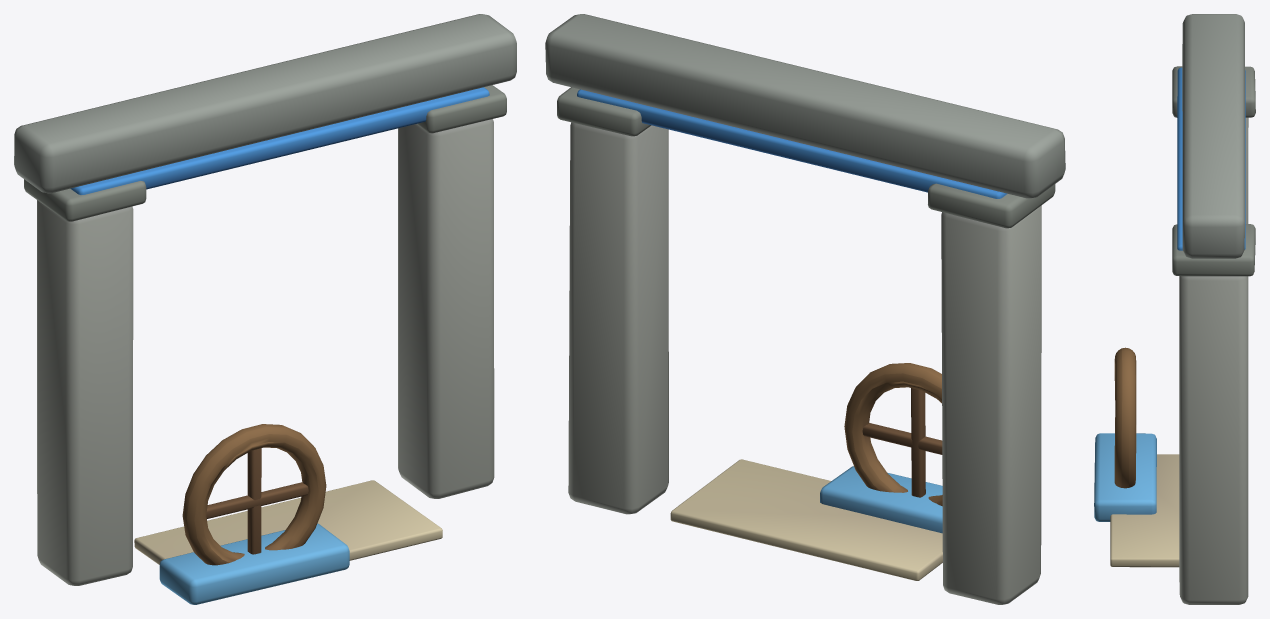
3 renders of one model, left to right at view 1: azimuth 30°, elevation 25°; view 2: azimuth 150°, elevation 25°; view 3: azimuth 270°, elevation 25°, orthographic. The views are drawn at different scales.
Visible parts, largest first — view 1: gate_e46978ca; view 2: gate_e46978ca; view 3: gate_e46978ca.
Boxes of the visible parts, <box> form: gate_e46978ca: <box>14,14,516,604</box>; gate_e46978ca: <box>545,14,1065,604</box>; gate_e46978ca: <box>1094,14,1255,604</box>.
Bounding box in the file's own units: 4.76 × 4.27 × 1.56.
